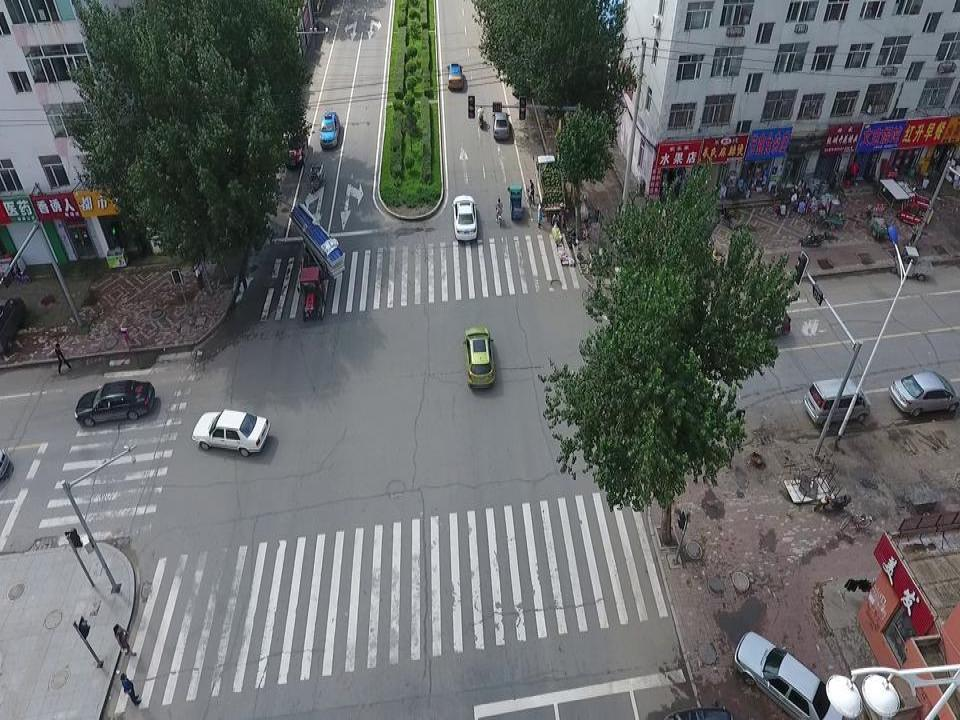car: (733, 625, 853, 720), (190, 408, 269, 457), (888, 366, 960, 418), (76, 377, 155, 423), (462, 326, 498, 386), (741, 300, 792, 340), (0, 296, 28, 356), (451, 194, 479, 241), (807, 204, 844, 231), (286, 129, 307, 167), (319, 111, 339, 149), (492, 111, 510, 140), (800, 227, 826, 245), (447, 61, 463, 87)
truck: (534, 156, 566, 213), (506, 181, 525, 223)
van: (804, 376, 871, 423)
